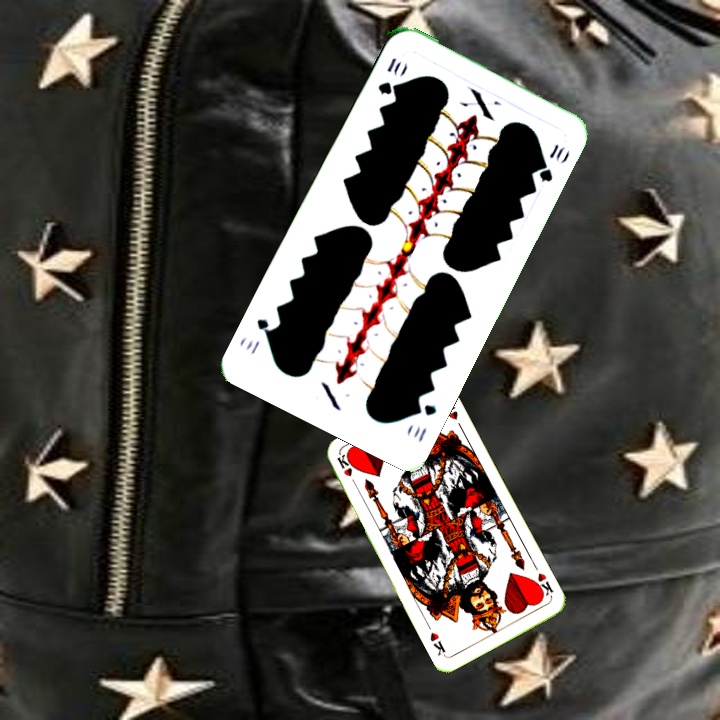G10: (409, 398, 440, 445), (374, 53, 403, 98)
HK: (333, 451, 360, 490), (530, 569, 556, 600)
